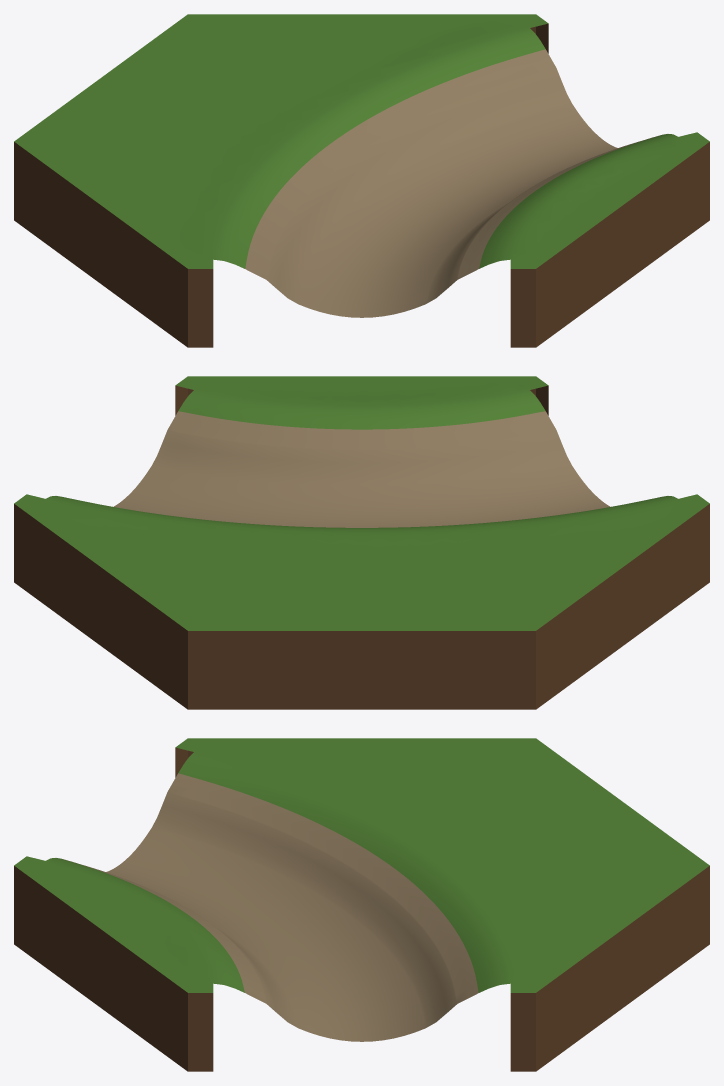
Rendered from river_bend_base.glb.
3 renders of one model, top to bottom at view 1: azimuth 30°, elevation 25°; view 2: azimuth 150°, elevation 25°; view 3: azimuth 270°, elevation 25°, orthographic.
Parts seen in each view (by area): view 1: river_bend_base_lod0; view 2: river_bend_base_lod0; view 3: river_bend_base_lod0.
Part boxes in pixels (x1=…): river_bend_base_lod0: x1=14, y1=14, x2=709, y2=347; river_bend_base_lod0: x1=14, y1=376, x2=709, y2=709; river_bend_base_lod0: x1=14, y1=738, x2=709, y2=1071.
Size of what is drawn, in the model's own units: 27.71 by 4 by 32.
